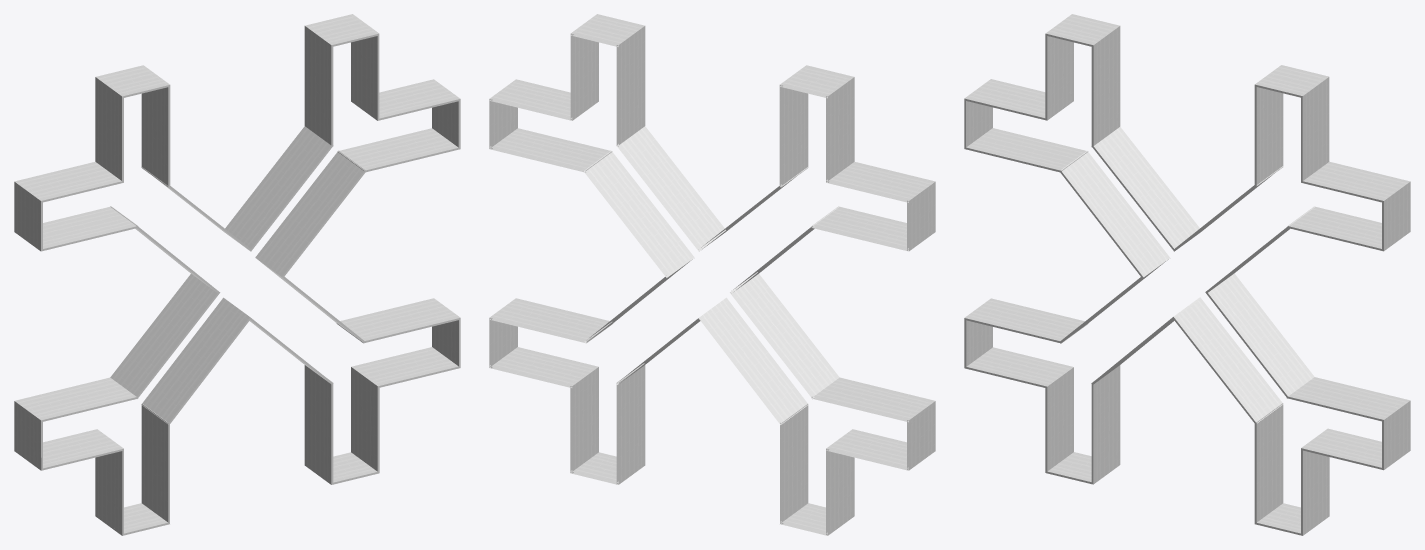
The model's file is wall_1.obj.
The picture shows the model from 3 angles, left to right: view 1: azimuth 30°, elevation 25°; view 2: azimuth 150°, elevation 25°; view 3: azimuth 330°, elevation 25°; orthographic projection.
Parts seen in each view (by area): view 1: walls; view 2: walls; view 3: walls.
Boxes of the visible parts, x1,y1,x2,y2 form: walls: [14, 14, 460, 535]; walls: [489, 14, 935, 535]; walls: [964, 14, 1410, 535].
Bounding box in the file's own units: 22.66 × 22.69 × 2.5.
